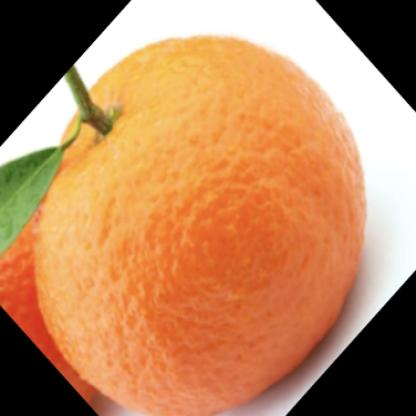fresh: (28, 34, 366, 416)
